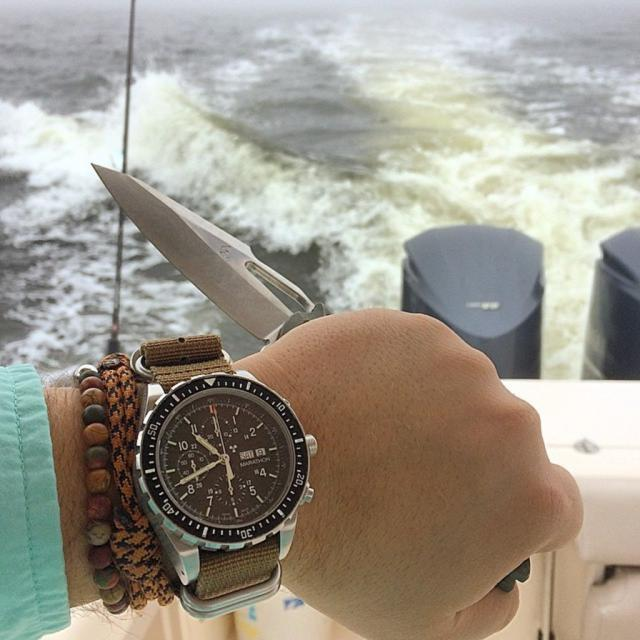Knife: (92, 164, 324, 342)
